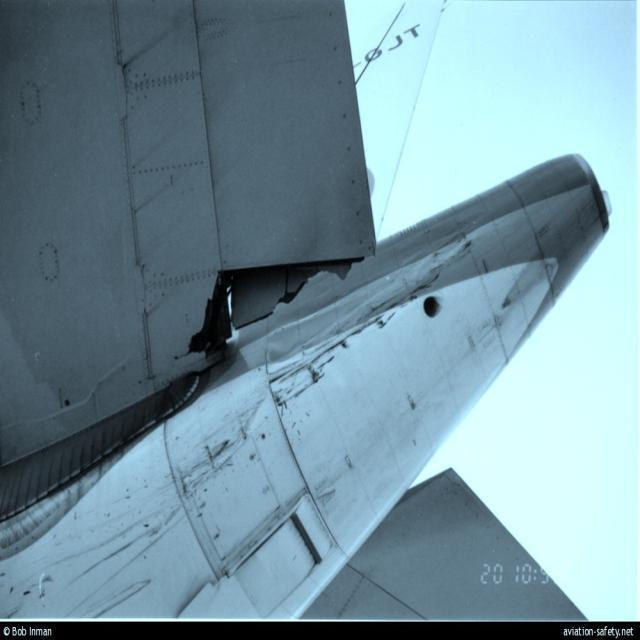crack: (176, 251, 366, 376)
